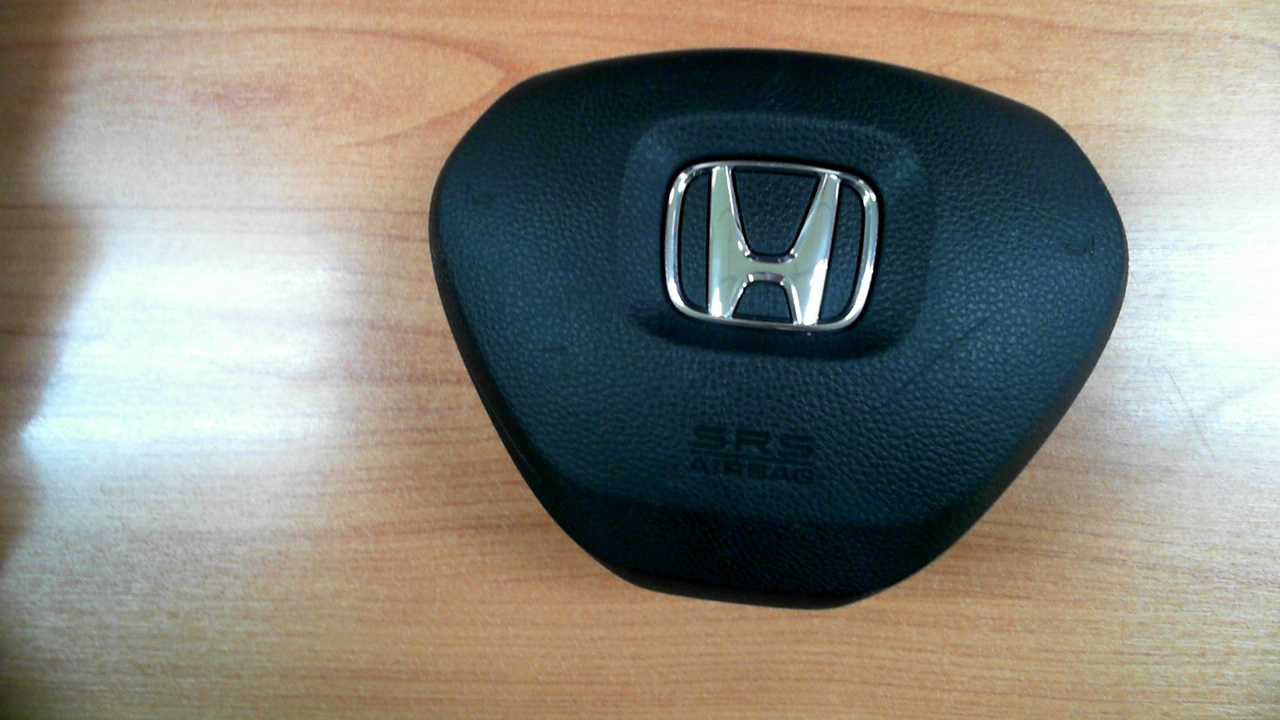Airbag: (427, 48, 1130, 612)
Honda: (663, 160, 880, 336)
